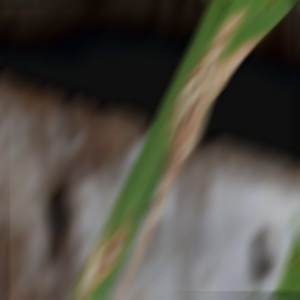Brown_Spot: (155, 12, 265, 167), (96, 224, 131, 269)
